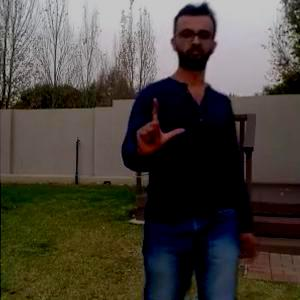land_hand: (131, 93, 188, 161)
